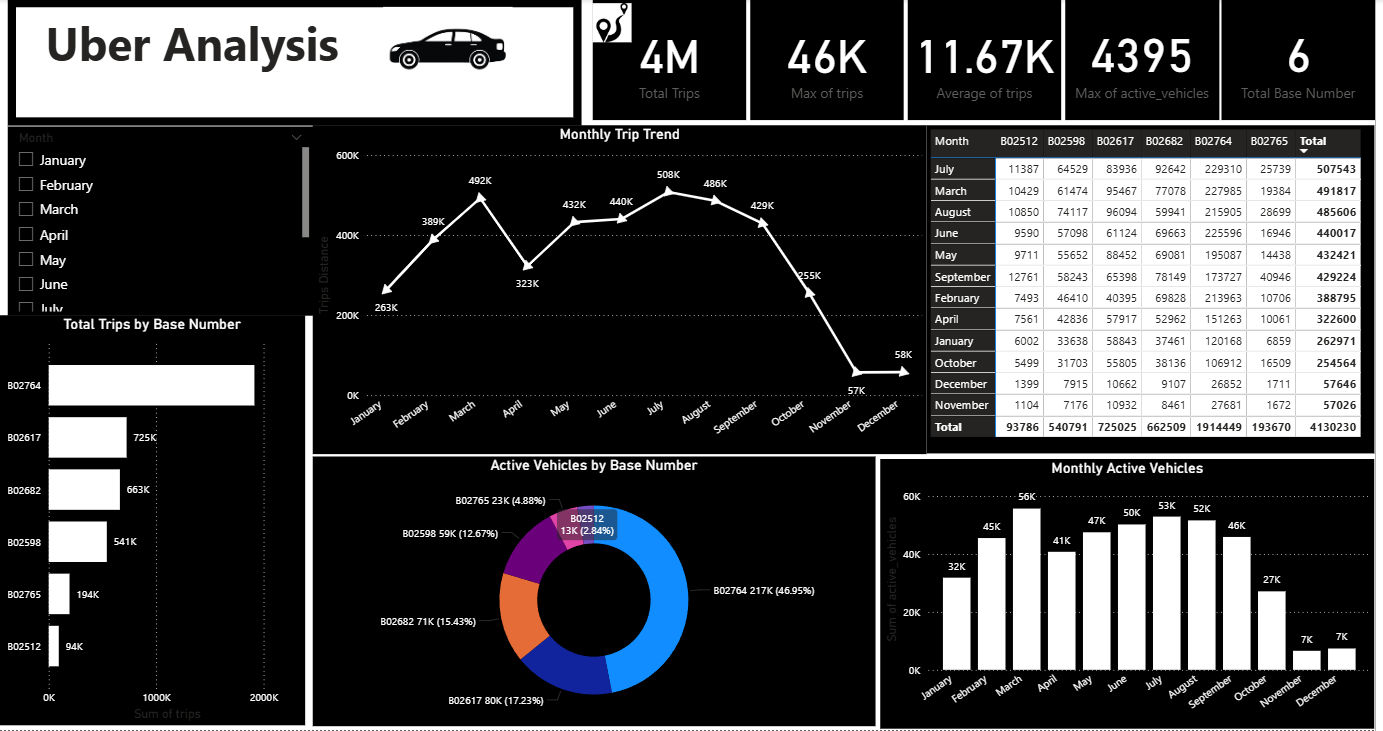

What the dashboard file says about the page in this screenshot:
{"tool":"powerbi","page":{"name":"Page 1","canvas":[1600,850],"ordinal":0},"visuals":[{"type":"textbox","box":[10,0,667.5,147.5],"z":0},{"type":"lineChart","title":"Monthly Trip Trend","fields":{"Y":["Sum(Uber-Jan-Feb-FOIL.trips)"],"Category":["Uber-Jan-Feb-FOIL.date.Variation.Date Hierarchy.Month"]},"box":[365.3,146.7,713.8,382.1],"z":1000},{"type":"clusteredBarChart","title":"Total Trips by Base Number  ","fields":{"Category":["Uber-Jan-Feb-FOIL.dispatching_base_number"],"Y":["Sum(Uber-Jan-Feb-FOIL.trips)"]},"box":[0,368.4,356.1,476.9],"z":2000},{"type":"donutChart","title":"Active Vehicles by  Base Number","fields":{"Category":["Uber-Jan-Feb-FOIL.dispatching_base_number"],"Y":["Sum(Uber-Jan-Feb-FOIL.active_vehicles)"]},"box":[365.3,531.9,654.2,313.4],"z":3000},{"type":"columnChart","title":"Monthly Active Vehicles","fields":{"Y":["Sum(Uber-Jan-Feb-FOIL.active_vehicles)"],"Category":["Uber-Jan-Feb-FOIL.date.Variation.Date Hierarchy.Month"]},"box":[1025.3,535,574.7,313.4],"z":4000},{"type":"pivotTable","fields":{"Columns":["Uber-Jan-Feb-FOIL.dispatching_base_number"],"Values":["Sum(Uber-Jan-Feb-FOIL.trips)"],"Rows":["Uber-Jan-Feb-FOIL.date.Variation.Date Hierarchy.Month"]},"box":[1079.2,147.1,520.8,381.2],"z":5000},{"type":"card","fields":{"Values":["Sum(Uber-Jan-Feb-FOIL.trips)"]},"box":[690.4,0,178.6,141.1],"z":6000},{"type":"card","fields":{"Values":["Max(Uber-Jan-Feb-FOIL.trips)"]},"box":[873.5,0,178.6,141.1],"z":7000},{"type":"card","fields":{"Values":["Avg(Uber-Jan-Feb-FOIL.trips)"]},"box":[1056.7,0,178.6,141.1],"z":8000},{"type":"card","fields":{"Values":["Max(Uber-Jan-Feb-FOIL.active_vehicles)"]},"box":[1239.6,0,178.8,140.6],"z":9000},{"type":"card","fields":{"Values":["Count(Uber-Jan-Feb-FOIL.dispatching_base_number)"]},"box":[1421.5,0,178.8,140.6],"z":10000},{"type":"image","box":[355,5,335,110],"z":11000},{"type":"image","box":[678.4,0,67.5,55.5],"z":12000},{"type":"slicer","fields":{"Values":["Uber-Jan-Feb-FOIL.date.Variation.Date Hierarchy.Month"]},"box":[10,148,355,220],"z":13000}]}

Visuals, with their boxes in screenshot pixels (x1, y1, x2, y2), scaled from the page's 1600x850 canvas onto the 1383x731 screenshot:
textbox: 9, 0, 586, 127
"Monthly Trip Trend" lineChart: 316, 126, 933, 455
"Total Trips by Base Number  " clusteredBarChart: 0, 317, 308, 727
"Active Vehicles by  Base Number" donutChart: 316, 457, 881, 727
"Monthly Active Vehicles" columnChart: 886, 460, 1382, 730
pivotTable - Uber-Jan-Feb-FOIL.dispatching_base_number x Sum(Uber-Jan-Feb-FOIL.trips): 933, 127, 1382, 454
card - Sum(Uber-Jan-Feb-FOIL.trips): 597, 0, 751, 121
card - Max(Uber-Jan-Feb-FOIL.trips): 755, 0, 909, 121
card - Avg(Uber-Jan-Feb-FOIL.trips): 913, 0, 1068, 121
card - Max(Uber-Jan-Feb-FOIL.active_vehicles): 1071, 0, 1226, 121
card - Count(Uber-Jan-Feb-FOIL.dispatching_base_number): 1229, 0, 1382, 121
image: 307, 4, 596, 99
image: 586, 0, 645, 48
slicer - Uber-Jan-Feb-FOIL.date.Variation.Date Hierarchy.Month: 9, 127, 315, 316
